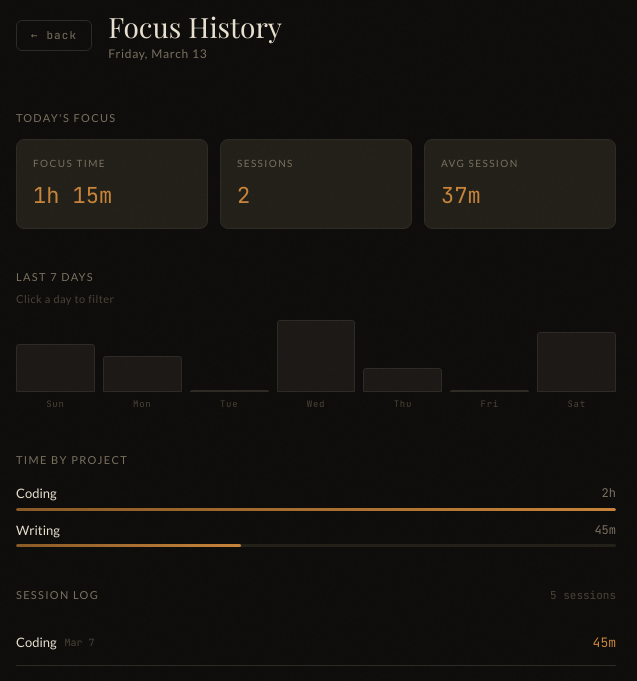
it: DashboardPage › handles day clicking and clearing filter
Check: the text "Last 7 Days" is shown, box [16, 270, 94, 282]
Check: the text "Sat" is shown, box [567, 398, 586, 412]
# Click the parent div which has the onClick handler
Click the element showing "2 Sat" at (577, 357), box [537, 302, 616, 412]
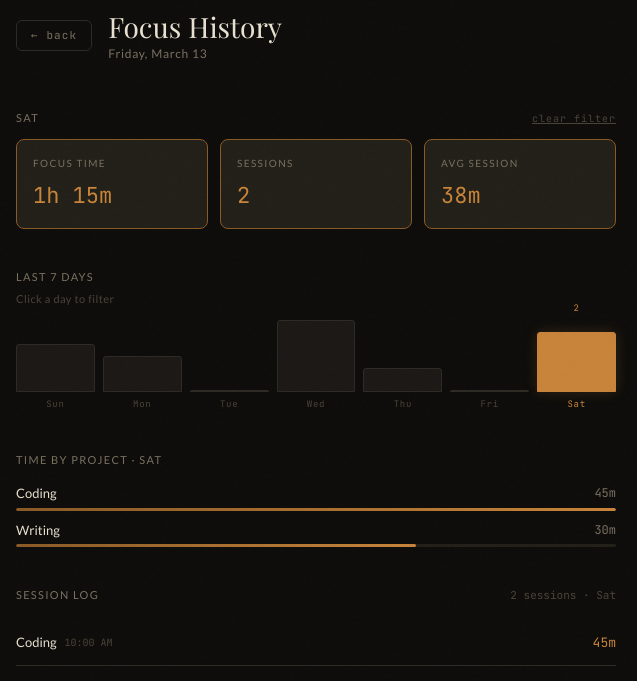
Check: the button "clear filter" is shown
# Click clear filter
Click the button "clear filter" at (574, 118), box [532, 111, 616, 126]
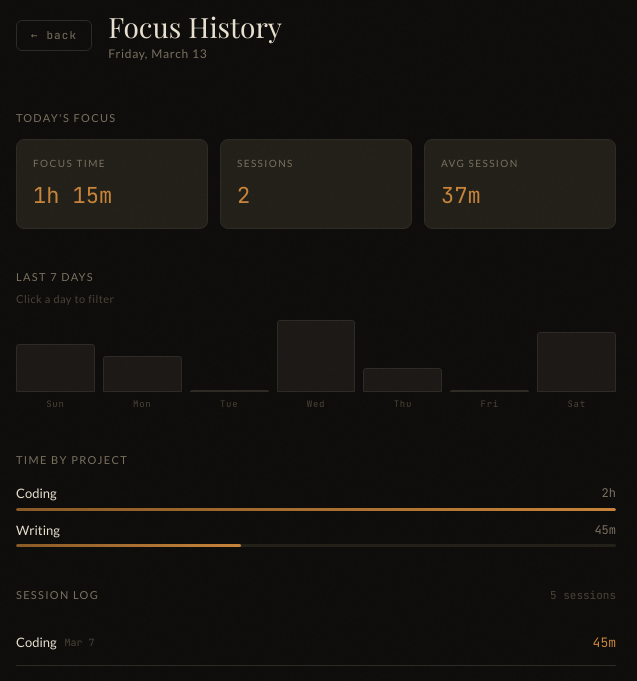
Check: the button "clear filter" is gone
